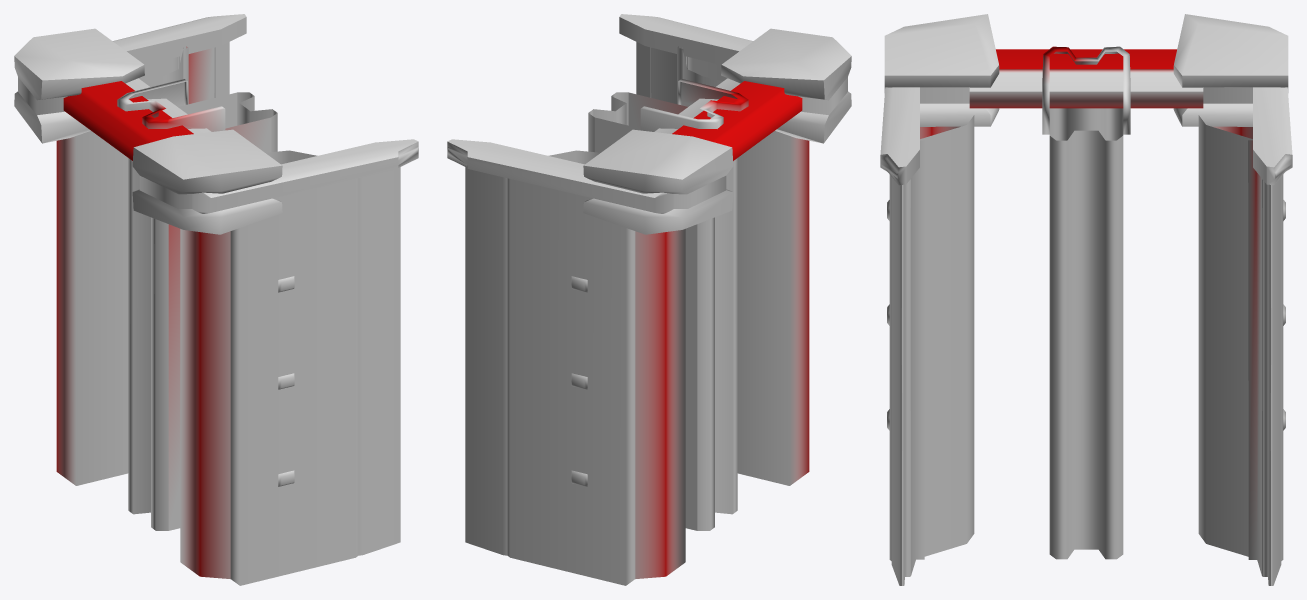
File: midlift.fbx
3 renders of one model, left to right at view 1: azimuth 30°, elevation 25°; view 2: azimuth 150°, elevation 25°; view 3: azimuth 270°, elevation 25°, orthographic. The views are drawn at different scales.
Parts seen in each view (by area): view 1: SM_ConveyorLiftMid_MK1_01; view 2: SM_ConveyorLiftMid_MK1_01; view 3: SM_ConveyorLiftMid_MK1_01.
Boxes of the visible parts, left/top/right/bottom form: SM_ConveyorLiftMid_MK1_01: left=14, top=14, right=418, bottom=585; SM_ConveyorLiftMid_MK1_01: left=447, top=14, right=851, bottom=585; SM_ConveyorLiftMid_MK1_01: left=880, top=14, right=1292, bottom=585.
Size of the model in its own units: 132 by 220 by 178.
